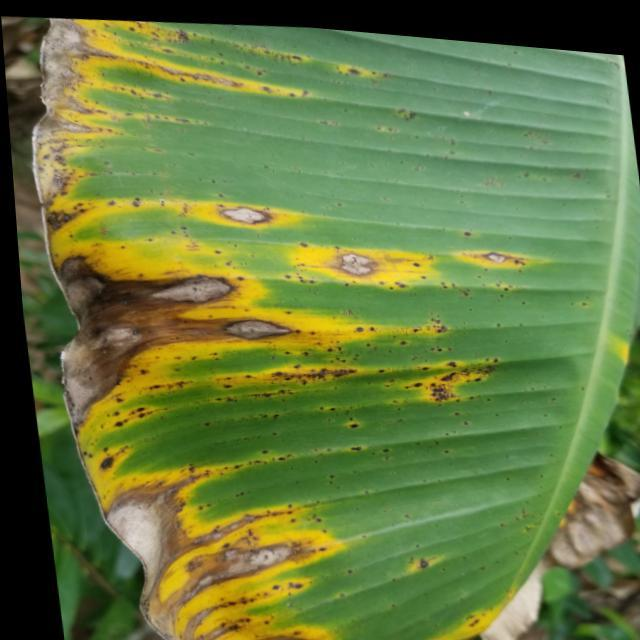Early_rust: (20, 0, 551, 640)
